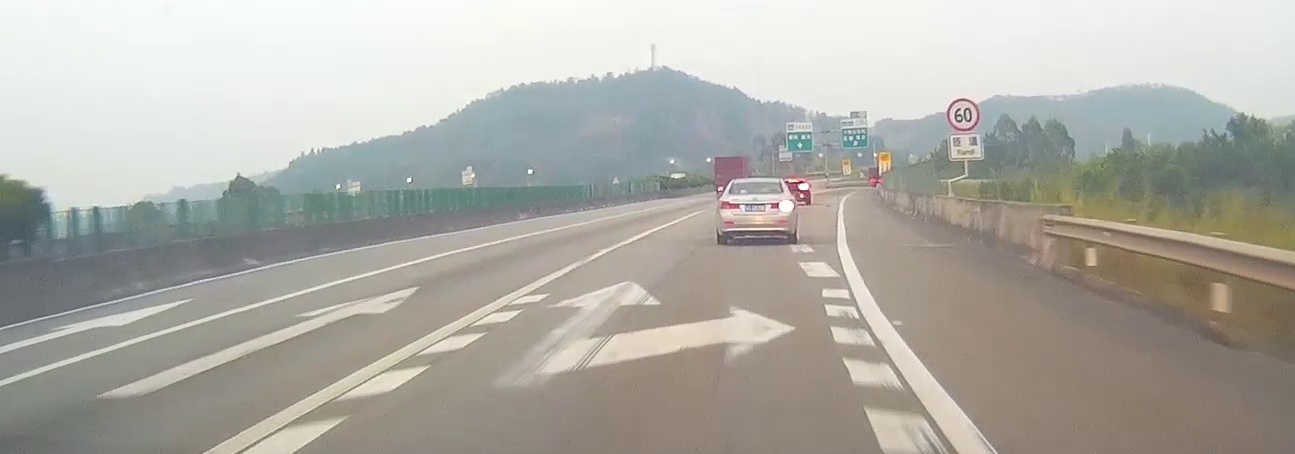L_light: (719, 201, 740, 209)
R_light: (772, 201, 795, 209)
T_light: (753, 182, 765, 185)
day-right: (715, 176, 798, 244)
